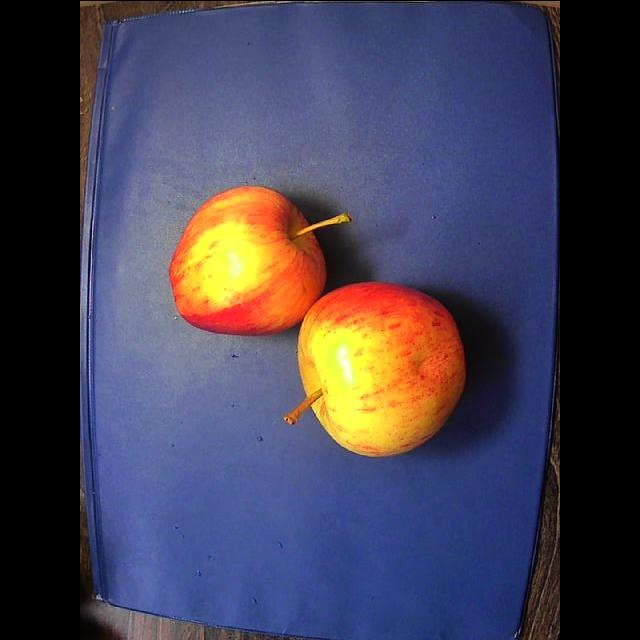manzana: (284, 282, 466, 456), (169, 184, 350, 333)
